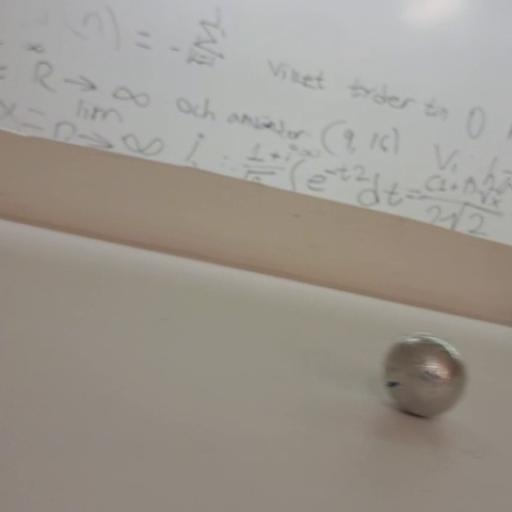alive: (377, 330, 469, 420)
